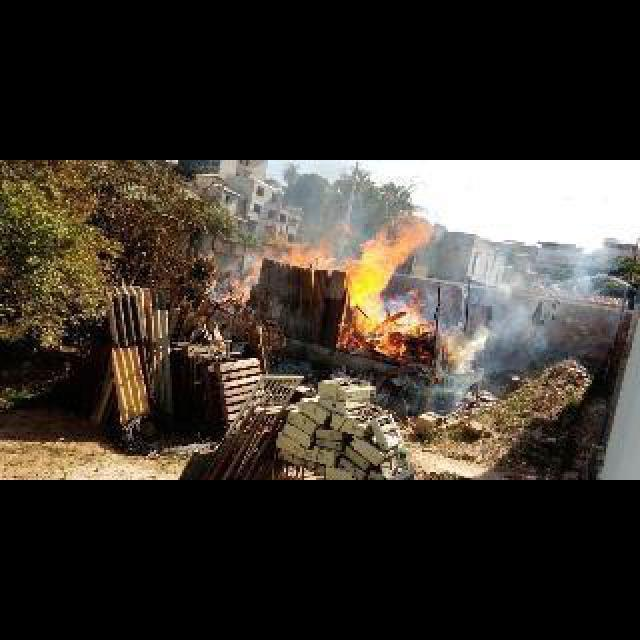Fire: (340, 210, 432, 346), (268, 218, 338, 264), (222, 250, 260, 300)
Smoke: (484, 282, 550, 362), (550, 246, 614, 308), (422, 366, 490, 416)
